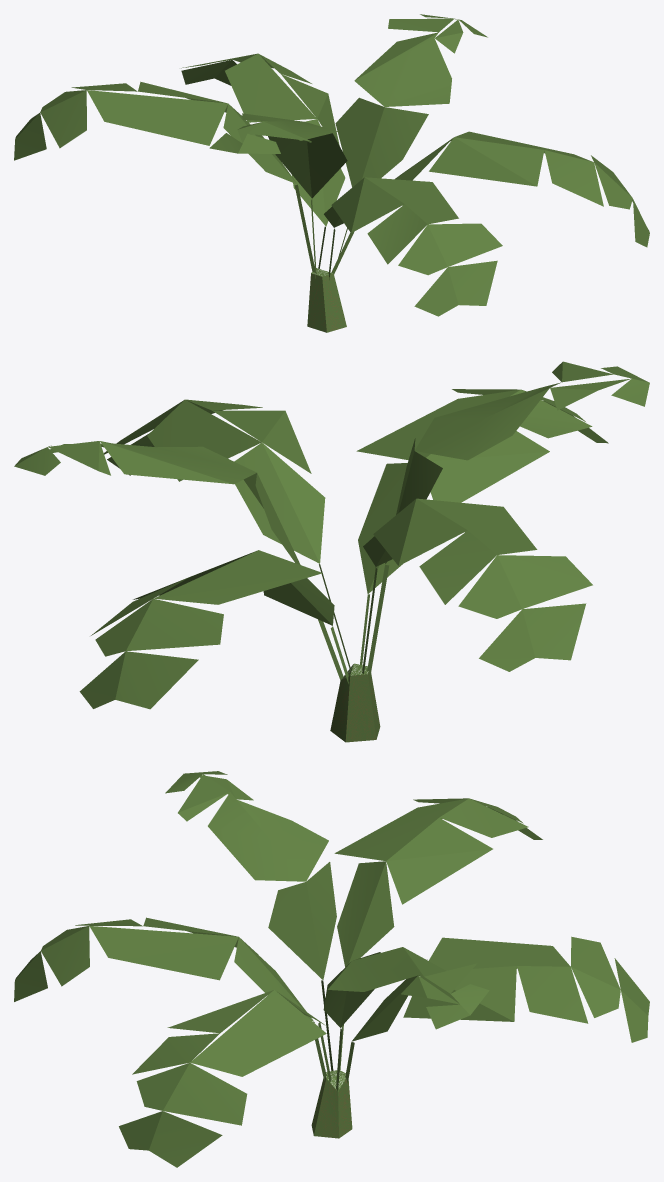
The model's file is Plant_Tropical_02.fbx.
3 views of the same model, one above another, from view 1: azimuth 30°, elevation 25°; view 2: azimuth 150°, elevation 25°; view 3: azimuth 270°, elevation 25° (orthographic). The views are drawn at different scales.
Visible parts, largest first — view 1: Model; view 2: Model; view 3: Model.
Boxes of the visible parts, x1,y1,x2,y2 form: Model: (14, 14, 649, 332); Model: (14, 361, 649, 742); Model: (14, 771, 649, 1167).
Size of the model in its own units: 427 by 224 by 455.
